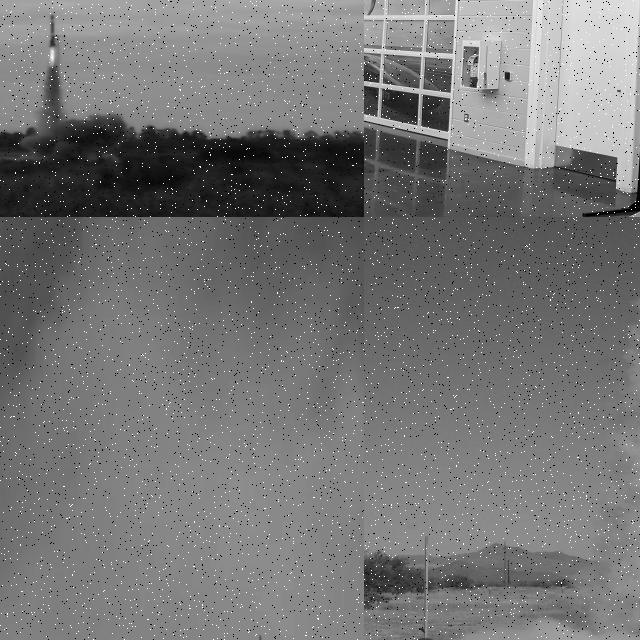Rocket: (48, 14, 58, 48)
